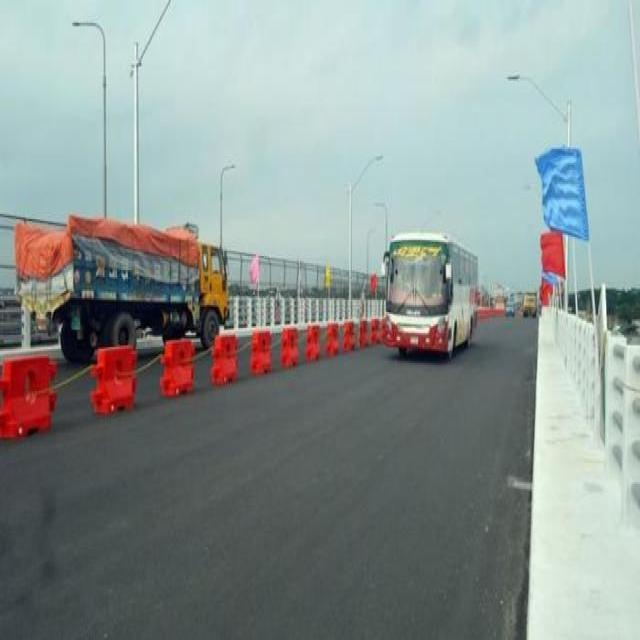Bus: (384, 218, 485, 372)
Truck: (9, 185, 240, 349)
